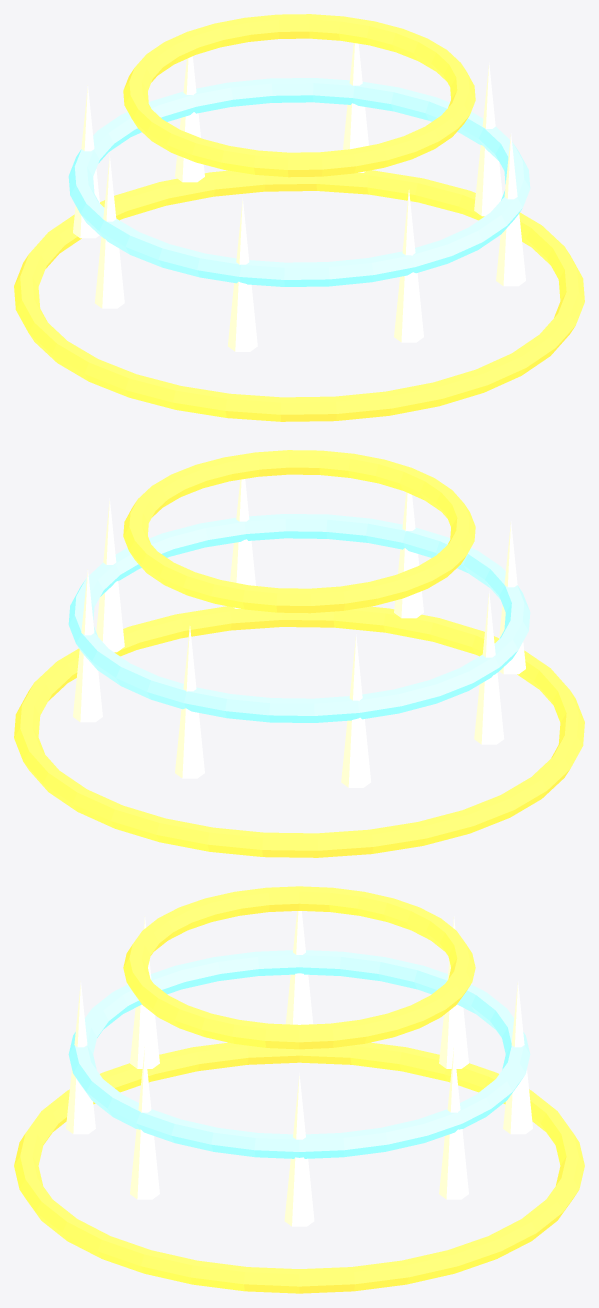
Rendered from fxUpgrade.glb.
3 views of the same model, one above another, from view 1: azimuth 30°, elevation 25°; view 2: azimuth 150°, elevation 25°; view 3: azimuth 270°, elevation 25° (orthographic).
Visible parts, largest first — view 1: FX04_UpgradeRings_Mesh; view 2: FX04_UpgradeRings_Mesh; view 3: FX04_UpgradeRings_Mesh.
Part boxes in pixels (x1,y1,x2,y2): FX04_UpgradeRings_Mesh: (14,14,584,421); FX04_UpgradeRings_Mesh: (14,450,584,857); FX04_UpgradeRings_Mesh: (14,886,584,1293).
Size of the model in its own units: 0.00209 by 0.000878 by 0.00209.
